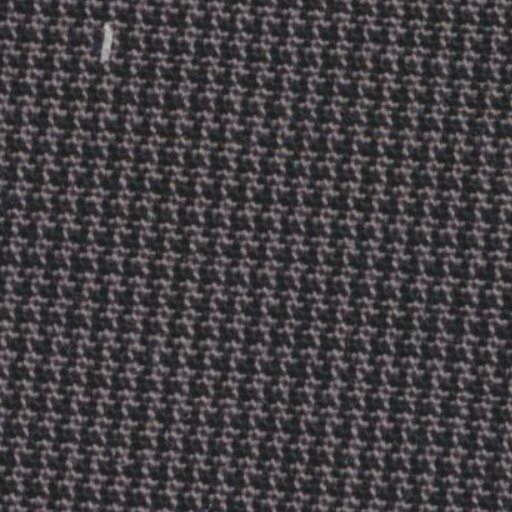DuanSha: (86, 16, 125, 68)
